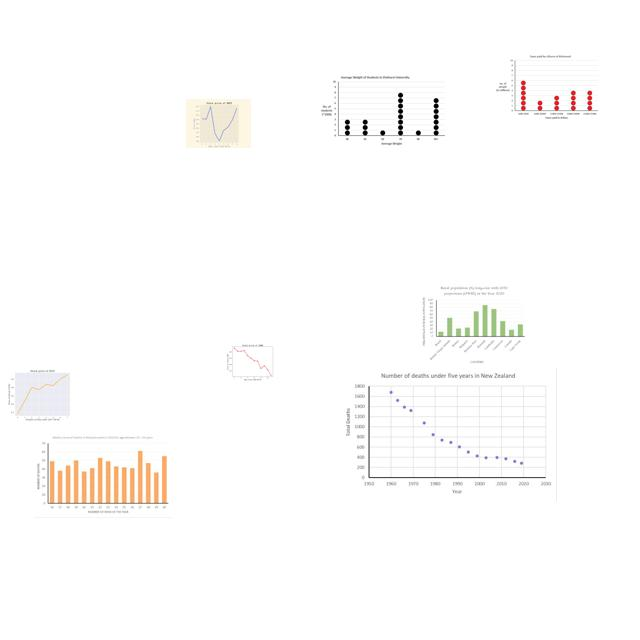Graph: (340, 368, 557, 501), (34, 434, 172, 518), (318, 73, 447, 148), (420, 284, 527, 367), (493, 52, 600, 122), (1, 366, 82, 422), (186, 99, 251, 148), (226, 342, 278, 381)
